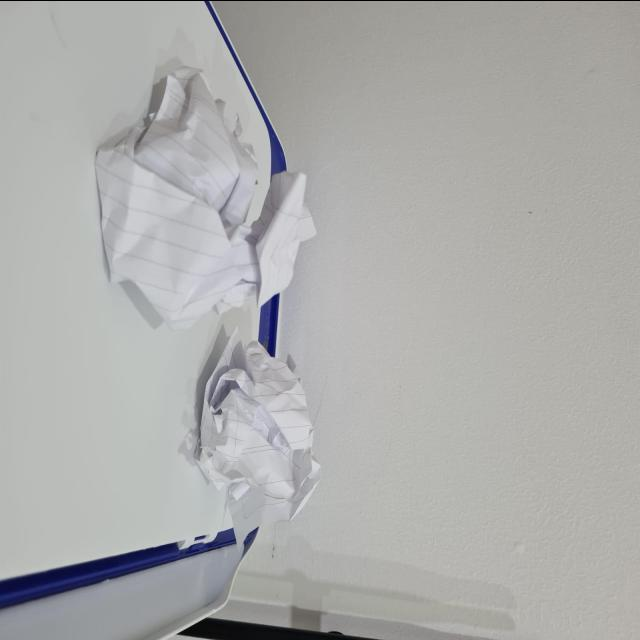kertas: (101, 90, 322, 326), (194, 351, 320, 532)
